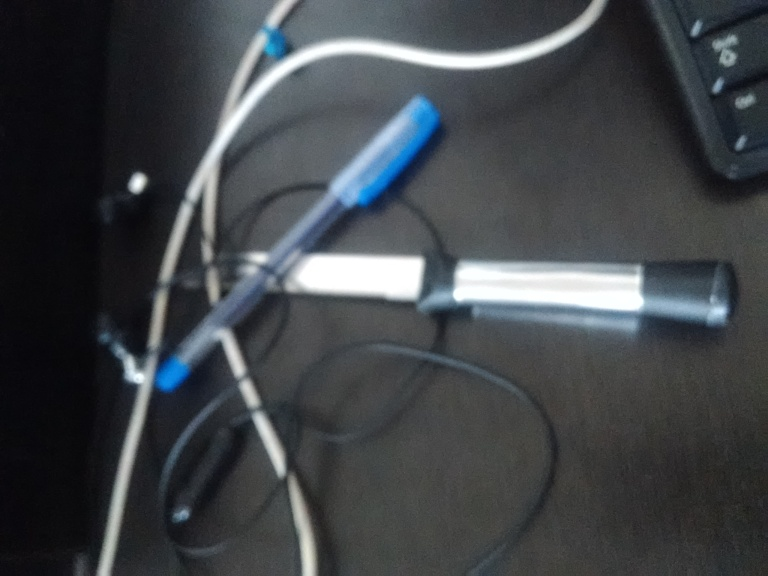knife: (182, 247, 741, 333)
